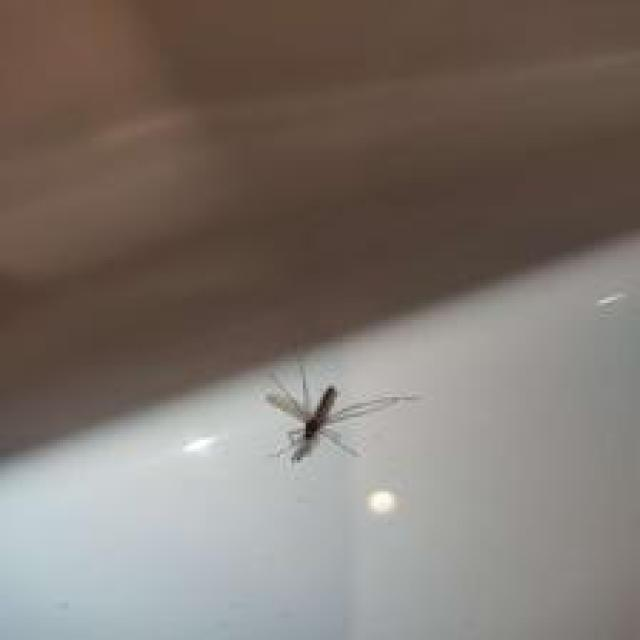Culex: (263, 350, 417, 467)
